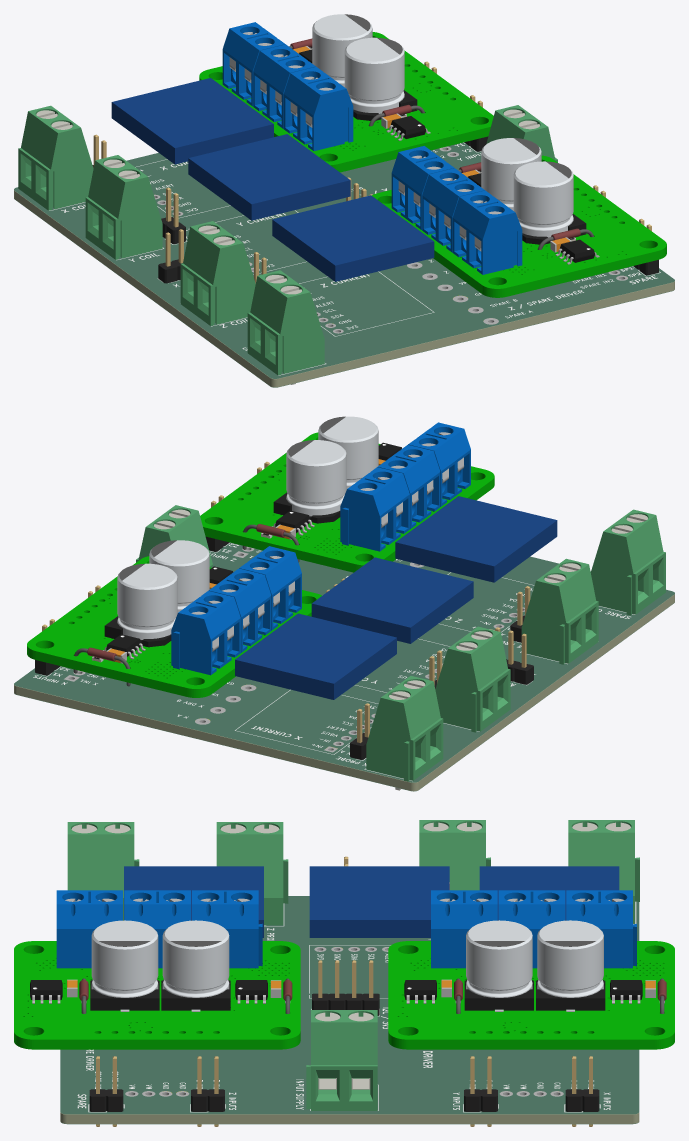
File: board.glb
3 views of the same model, one above another, from view 1: azimuth 30°, elevation 25°; view 2: azimuth 150°, elevation 25°; view 3: azimuth 270°, elevation 25° (orthographic). The views are drawn at different scales.
Parts seen in each view (by area): view 1: =>[0:1:1:62], =>[0:1:1:7] (×5), INA226_CJMCU_21x19_PROVISIONAL (Shell) (×3), =>[0:1:1:12] (×2), =>0:1:1:15 (×2), =>0:1:1:25 (×2), =>[0:1:1:64], =>0:1:1:20 (×2), =>0:1:1:18 (×2), =>0:1:1:22 (×2), =>[0:1:1:60], =>0:1:1:27 (×2) (+4 smaller); view 2: =>[0:1:1:62], =>[0:1:1:7] (×5), INA226_CJMCU_21x19_PROVISIONAL (Shell) (×3), =>[0:1:1:12] (×2), =>0:1:1:20 (×2), =>0:1:1:22 (×2), =>[0:1:1:64], =>0:1:1:18 (×2), =>0:1:1:15 (×2), =>0:1:1:25 (×2), =>[0:1:1:60], =>0:1:1:30 (×2) (+4 smaller); view 3: =>[0:1:1:62], =>[0:1:1:12] (×2), =>[0:1:1:7] (×5), INA226_CJMCU_21x19_PROVISIONAL (Shell) (×3), =>0:1:1:22 (×2), =>0:1:1:25 (×2), =>0:1:1:15 (×2), =>0:1:1:20 (×2), =>[0:1:1:64], =>0:1:1:18 (×2), =>[0:1:1:5] (×4), =>[0:1:1:60] (+5 smaller).
Part boxes in pixels (x1,y1,x2,y2): =>[0:1:1:62]: (14,142,674,378); =>[0:1:1:7] (×5): (18,105,557,384); INA226_CJMCU_21x19_PROVISIONAL (Shell) (×3): (111,78,434,281); =>[0:1:1:12] (×2): (199,32,666,297); =>0:1:1:15 (×2): (283,67,522,274); =>0:1:1:25 (×2): (344,37,586,244); =>[0:1:1:64]: (14,190,674,387); =>0:1:1:20 (×2): (222,22,454,229); =>0:1:1:18 (×2): (253,44,484,252); =>0:1:1:22 (×2): (312,14,541,210); =>[0:1:1:60]: (49,142,660,375); =>0:1:1:27 (×2): (386,116,599,264); =>[0:1:1:62]: (14,542,674,782); =>[0:1:1:7] (×5): (136,505,665,790); INA226_CJMCU_21x19_PROVISIONAL (Shell) (×3): (235,496,557,699); =>[0:1:1:12] (×2): (27,432,494,697); =>0:1:1:20 (×2): (171,467,409,675); =>0:1:1:22 (×2): (104,440,346,647); =>[0:1:1:64]: (14,594,674,791); =>0:1:1:18 (×2): (208,445,440,652); =>0:1:1:15 (×2): (239,422,470,630); =>0:1:1:25 (×2): (149,416,378,613); =>[0:1:1:60]: (33,542,635,781); =>0:1:1:30 (×2): (103,510,314,659); =>[0:1:1:62]: (60,896,639,1114); =>[0:1:1:12] (×2): (14,941,674,1049); =>[0:1:1:7] (×5): (67,820,639,1110); INA226_CJMCU_21x19_PROVISIONAL (Shell) (×3): (124,866,619,937); =>0:1:1:22 (×2): (161,920,605,1011); =>0:1:1:25 (×2): (90,920,533,1011); =>0:1:1:15 (×2): (56,890,497,968); =>0:1:1:20 (×2): (192,890,636,968); =>[0:1:1:64]: (60,947,639,1123); =>0:1:1:18 (×2): (124,890,565,968); =>[0:1:1:5] (×4): (89,1056,599,1126); =>[0:1:1:60]: (77,901,636,1112).
Size of the model in its own units: 0.0776 by 0.024 by 0.0992.
